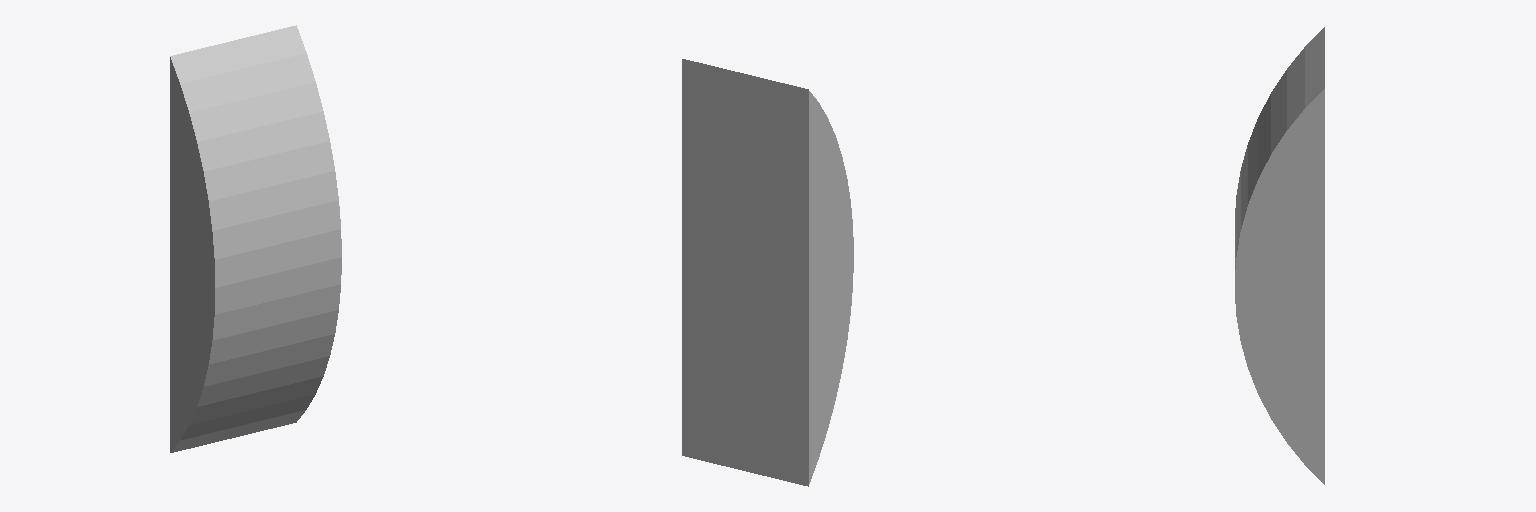
The model's file is fant_cube_rounder_3.obj.
The picture shows the model from 3 angles: view 1: azimuth 30°, elevation 25°; view 2: azimuth 150°, elevation 25°; view 3: azimuth 270°, elevation 25°; orthographic projection.
Visible parts, largest first — view 1: fant_cube_rounder_3_Cylinder.002; view 2: fant_cube_rounder_3_Cylinder.002; view 3: fant_cube_rounder_3_Cylinder.002.
Part boxes in pixels (bbox=[...]): fant_cube_rounder_3_Cylinder.002: bbox=[170, 25, 341, 452]; fant_cube_rounder_3_Cylinder.002: bbox=[682, 59, 853, 486]; fant_cube_rounder_3_Cylinder.002: bbox=[1235, 27, 1324, 484].
Bounding box in the file's own units: 1 × 3 × 0.6213.